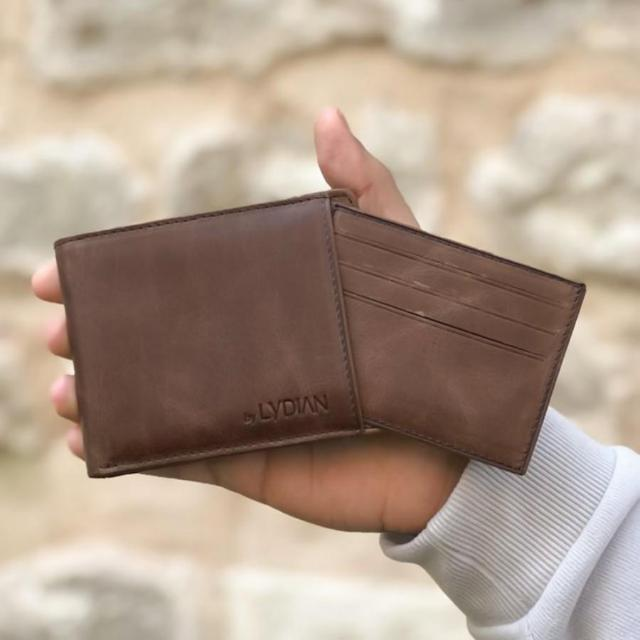Wallet: (55, 190, 585, 478)
